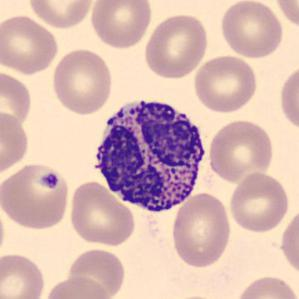Basophil: (86, 90, 211, 218)
Platelets: (35, 166, 62, 194)
RBC: (170, 191, 234, 270), (1, 160, 71, 232), (67, 179, 137, 247), (142, 11, 210, 80), (206, 117, 276, 184), (50, 47, 114, 116), (192, 52, 260, 113), (227, 171, 291, 234), (217, 0, 285, 59), (0, 12, 61, 76), (88, 0, 153, 50), (65, 246, 127, 298), (0, 250, 47, 299), (25, 0, 96, 30), (0, 109, 31, 177), (0, 68, 34, 128), (42, 274, 112, 299), (233, 272, 297, 299), (278, 206, 299, 278), (278, 62, 298, 135), (273, 0, 298, 31), (0, 199, 7, 262), (167, 293, 224, 299)
